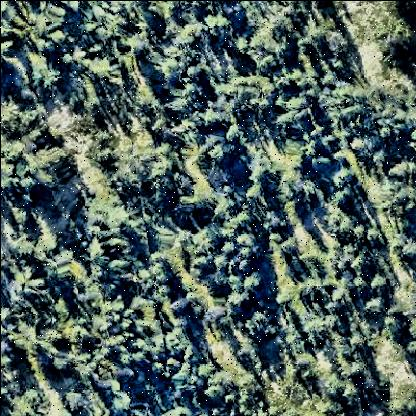tree-top: (33, 147, 72, 185), (28, 56, 66, 94), (381, 25, 415, 61), (272, 278, 304, 312), (163, 327, 195, 360), (322, 30, 352, 61), (1, 101, 27, 135), (87, 142, 115, 171), (385, 156, 416, 182), (188, 227, 218, 253), (328, 181, 355, 209), (245, 311, 273, 337), (390, 390, 416, 416), (205, 140, 231, 166), (330, 168, 356, 193), (306, 151, 332, 176), (86, 53, 112, 78), (63, 389, 88, 414), (205, 17, 230, 42), (166, 94, 193, 117), (72, 327, 95, 353), (366, 271, 390, 295), (84, 239, 108, 263), (363, 223, 387, 246), (362, 294, 386, 316), (271, 110, 297, 130), (243, 181, 265, 204), (110, 395, 134, 416), (302, 316, 323, 340), (241, 272, 263, 294), (202, 383, 224, 405), (194, 359, 216, 381), (122, 35, 144, 57), (275, 235, 298, 256), (393, 200, 416, 221), (343, 333, 367, 353), (226, 212, 250, 232), (170, 295, 192, 316), (227, 290, 248, 312), (12, 209, 34, 229), (207, 95, 229, 115), (234, 230, 255, 250), (126, 334, 147, 354), (348, 135, 371, 153), (399, 238, 416, 262), (147, 359, 166, 379), (267, 231, 287, 249), (273, 75, 291, 93), (396, 2, 416, 16), (170, 405, 195, 416), (403, 338, 416, 359)
